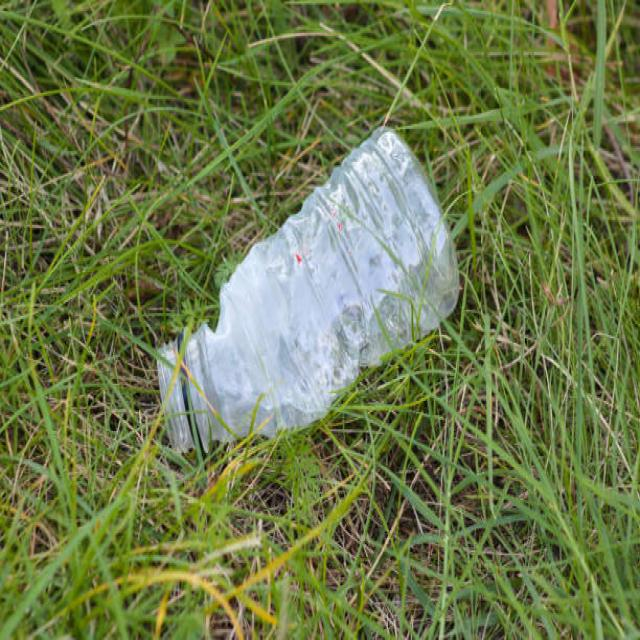plastic: (162, 139, 460, 461)
